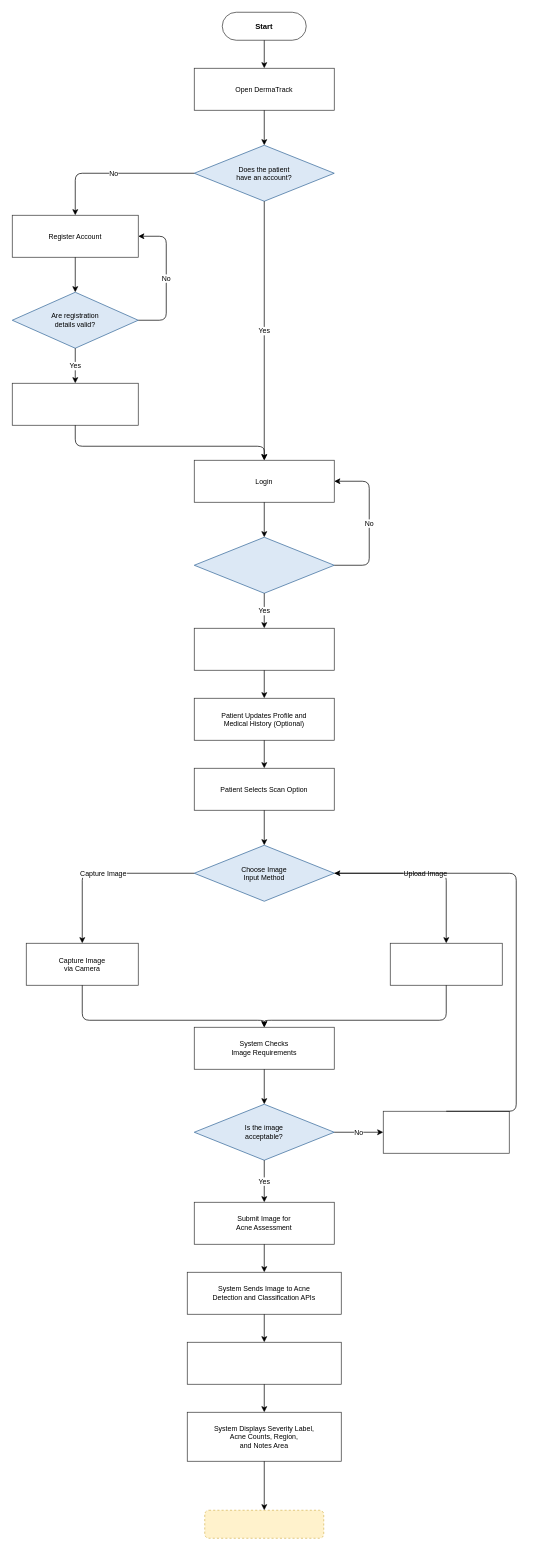
Some shapes in this 534 by 1551 pixel diagram are drawn without their labels. The box of each missing label's shape, as (x1, y1, x2, y2) in pixels:
Are login credentials valid?: (194, 537, 334, 593)
Continued in Figure 3.X.b: (204, 1510, 324, 1538)
Open Patient Dashboard: (194, 628, 334, 670)
Request Retake or Re-upload: (383, 1111, 509, 1153)
System Creates Account: (12, 383, 138, 425)
System Receives Severity Result and Lesion Information: (187, 1342, 341, 1384)
Upload Image from Device: (390, 943, 502, 985)
